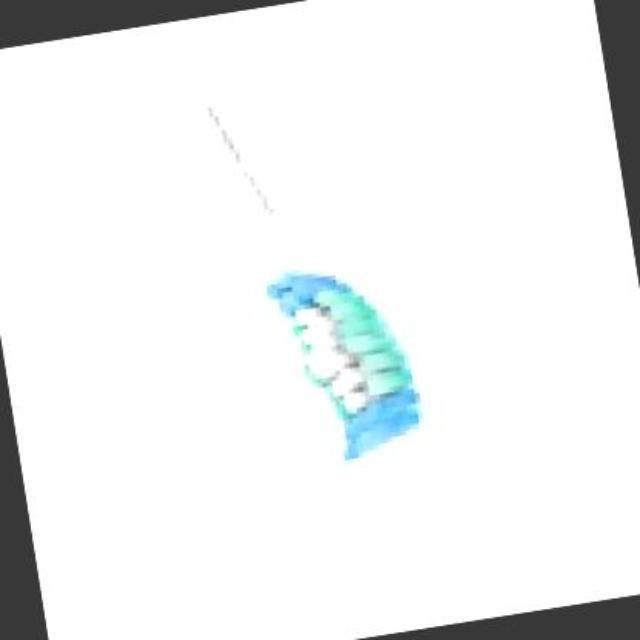toothbrush: (130, 36, 462, 514)
